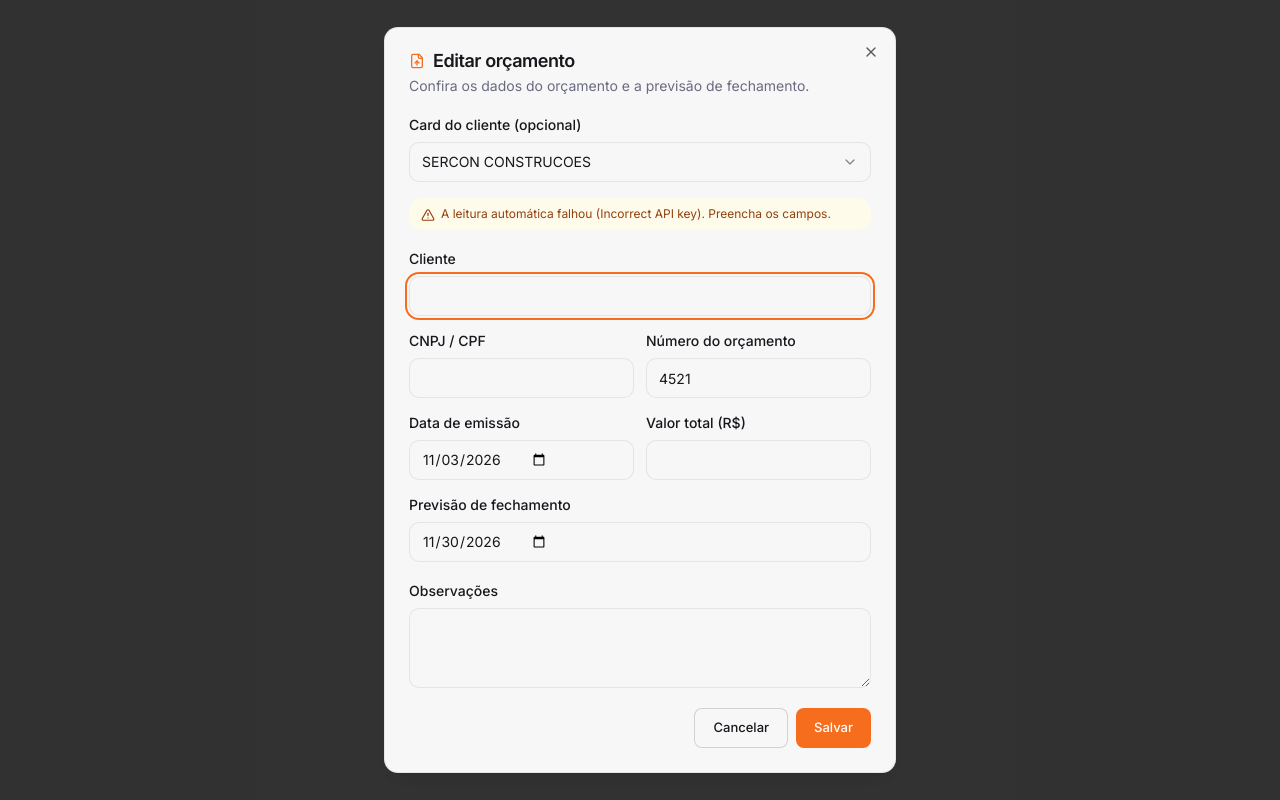
Scenario: SalesDocumentDialog › asks to fill by hand when the AI could not read the PDF
The width and height of the screenshot is (1280, 800).
expect the message reads "A leitura automática falhou (Incorrect API key). Preencha os campos.": met, box x1=409 y1=198 x2=871 y2=230
Click the button "Salvar" at (834,728), box x1=796 y1=708 x2=871 y2=748
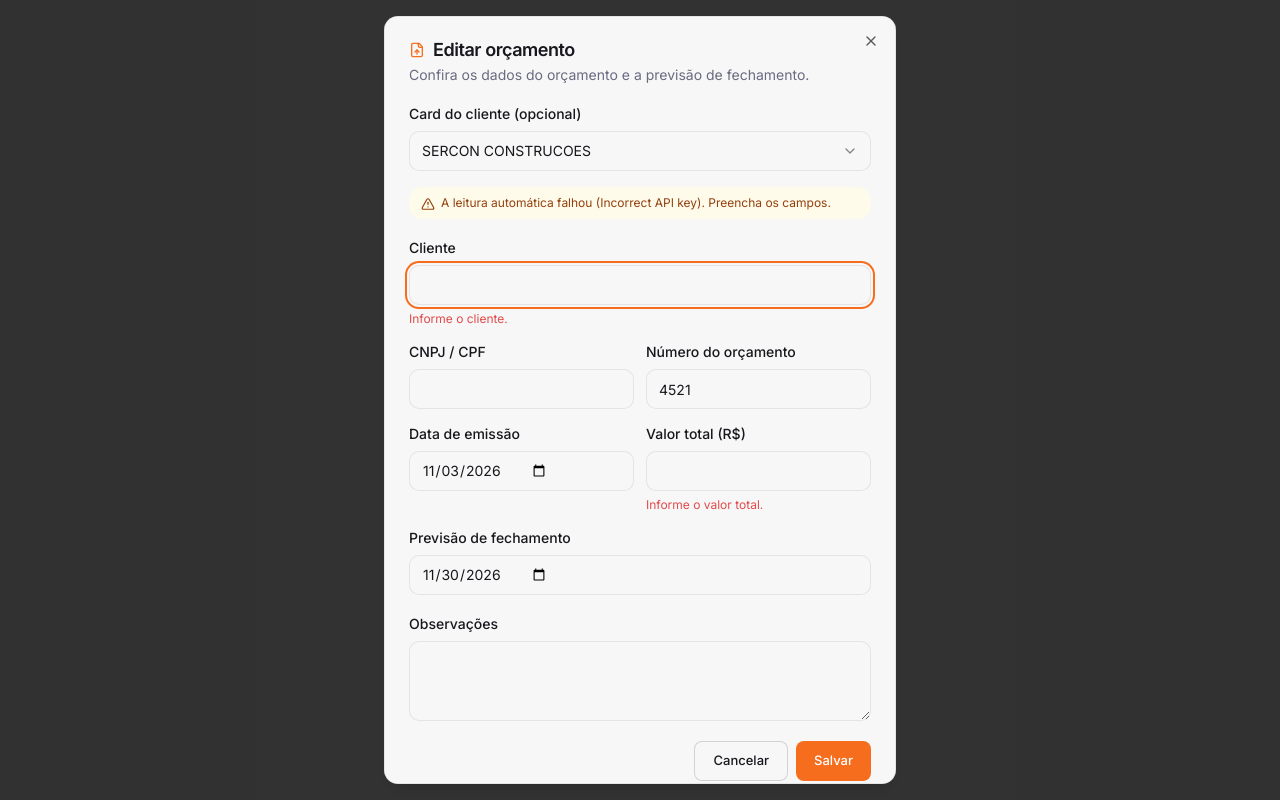
expect the text "Informe o cliente." is shown: met, box x1=409 y1=311 x2=508 y2=326
expect the text "Informe o valor total." is shown: met, box x1=646 y1=497 x2=763 y2=512
